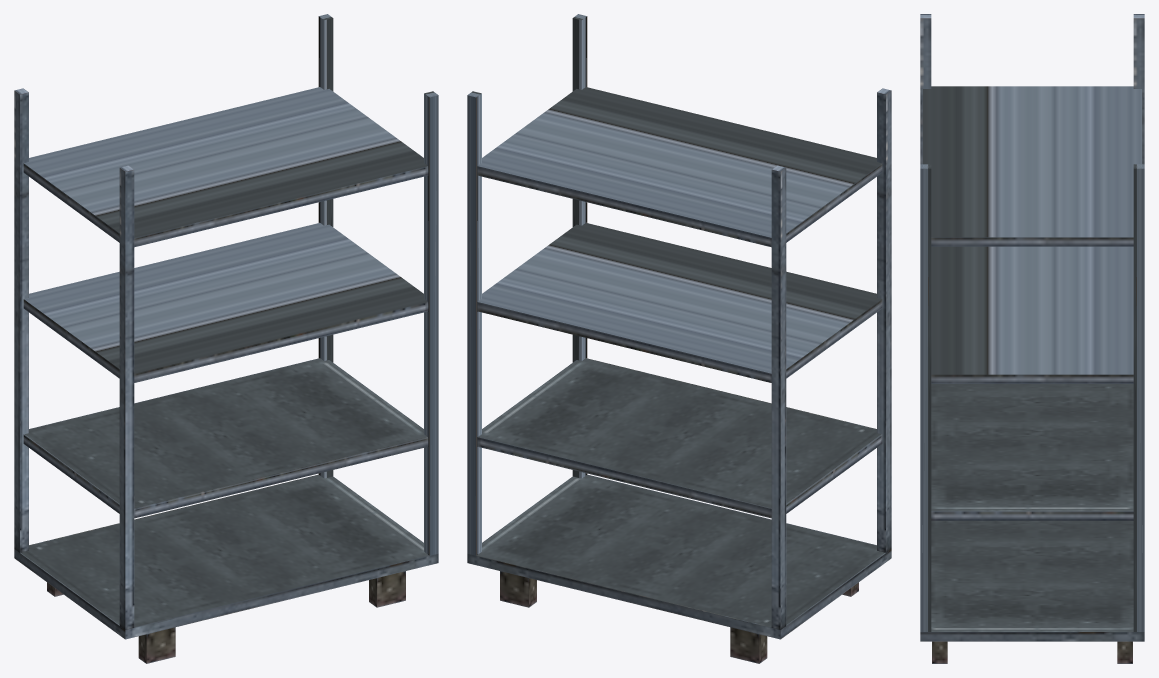
Rendered from Shelf01.obj.
3 views of the same model, side by side, from view 1: azimuth 30°, elevation 25°; view 2: azimuth 150°, elevation 25°; view 3: azimuth 270°, elevation 25° (orthographic).
Parts seen in each view (by area): view 1: Shelf01.Base, Shelf01.Wheels; view 2: Shelf01.Base, Shelf01.Wheels; view 3: Shelf01.Base, Shelf01.Wheels.
Part boxes in pixels (x1,y1,x2,y2): Shelf01.Base: (14, 14, 438, 639); Shelf01.Wheels: (47, 571, 405, 663); Shelf01.Base: (467, 14, 891, 639); Shelf01.Wheels: (500, 571, 858, 663); Shelf01.Base: (920, 14, 1144, 641); Shelf01.Wheels: (932, 641, 1132, 663).
Bounding box in the file's own units: 1.79 × 2.75 × 1.1.
